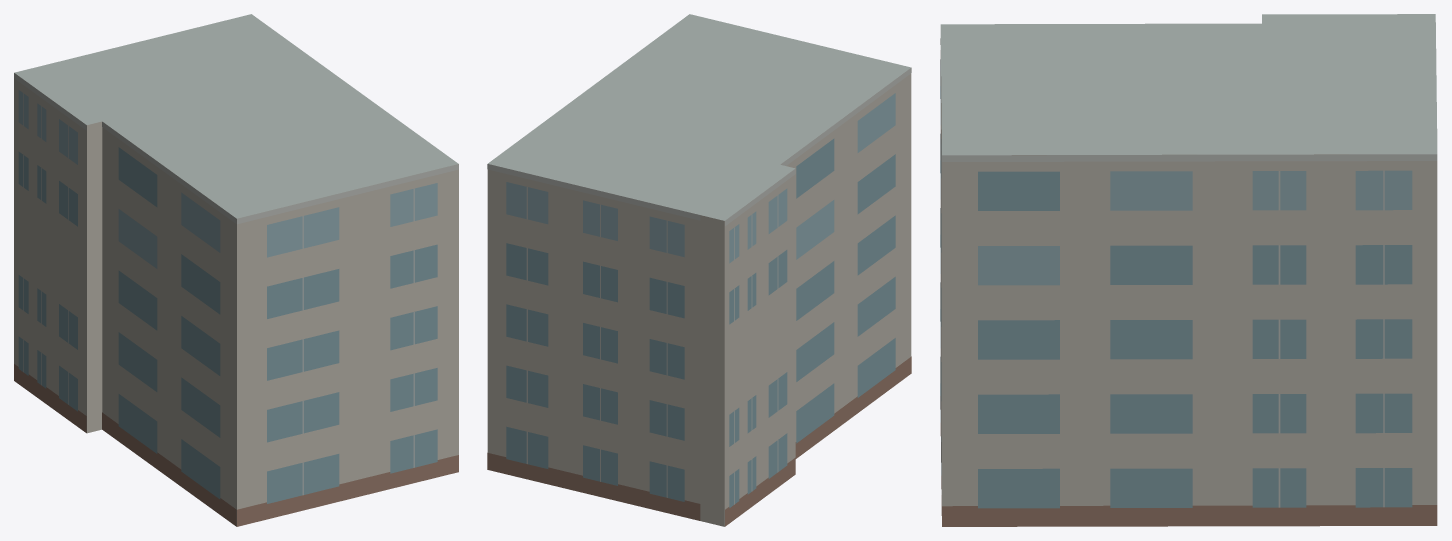
Rendered from survey-upis-32610856.glb.
3 renders of one model, left to right at view 1: azimuth 30°, elevation 25°; view 2: azimuth 150°, elevation 25°; view 3: azimuth 270°, elevation 25°, orthographic. The views are drawn at different scales.
Parts seen in each view (by area): view 1: survey-upis-32610856.tmp; view 2: survey-upis-32610856.tmp; view 3: survey-upis-32610856.tmp.
Part boxes in pixels (x1,y1,x2,y2): survey-upis-32610856.tmp: [14, 14, 458, 526]; survey-upis-32610856.tmp: [487, 14, 911, 526]; survey-upis-32610856.tmp: [940, 14, 1437, 526].
Size of the model in its own units: 10.85 by 13.3 by 16.13.
